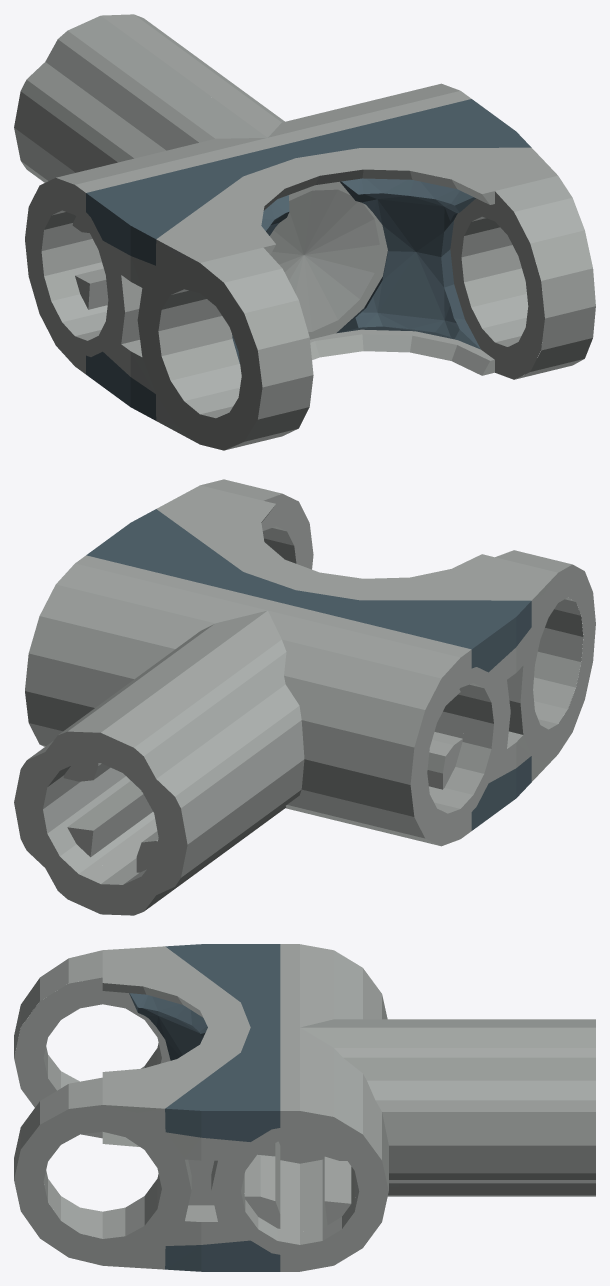
The picture shows the model from 3 angles, top to bottom: view 1: azimuth 30°, elevation 25°; view 2: azimuth 150°, elevation 25°; view 3: azimuth 270°, elevation 25°; orthographic projection. The views are drawn at different scales.
Visible parts, largest first — view 1: world; view 2: world; view 3: world.
Boxes of the visible parts, bbox=[...] form: world: bbox=[14, 14, 595, 450]; world: bbox=[14, 479, 595, 915]; world: bbox=[14, 944, 595, 1271].
Bounding box in the file's own units: 0.016 × 0.0072 × 0.0236.
